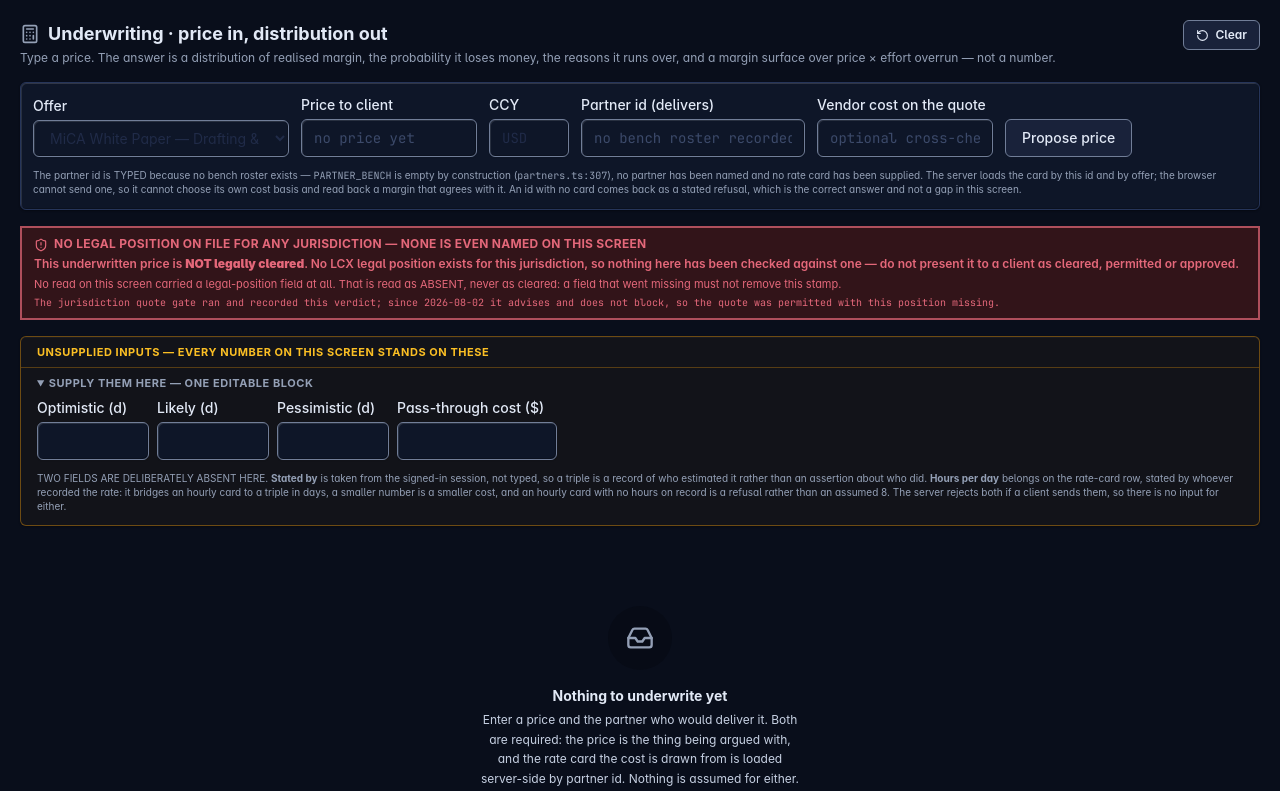
Scenario: the promised surface is what actually arrives › renders the figure, its readsAs and its environment label once a quote lands
The image size is (1280, 791).
Step 1. Type "25000" into the field with test id "price-input" → (389, 138), box top-left (301, 119), bottom-right (477, 157)
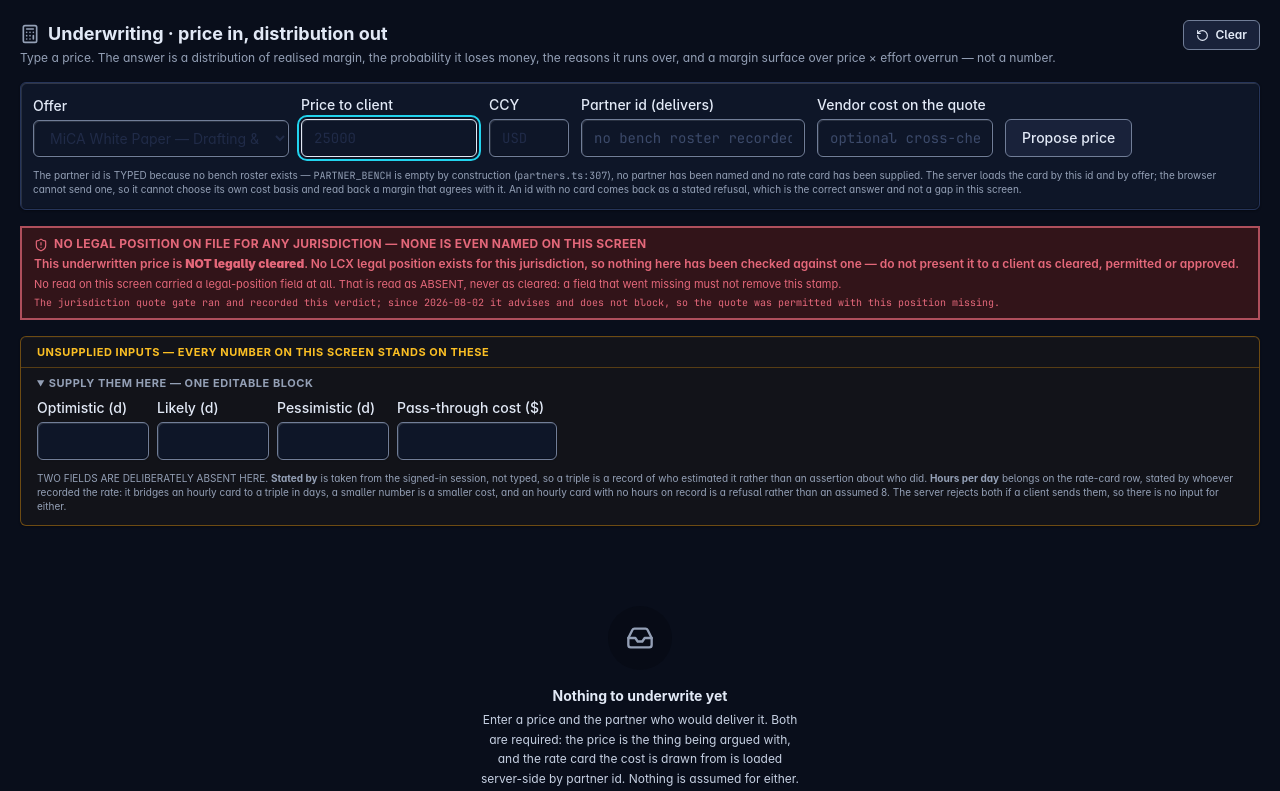
Step 2. Type "partner-1" into the field with test id "partner-input" → (693, 138), box top-left (581, 119), bottom-right (805, 157)
(page scrolled)
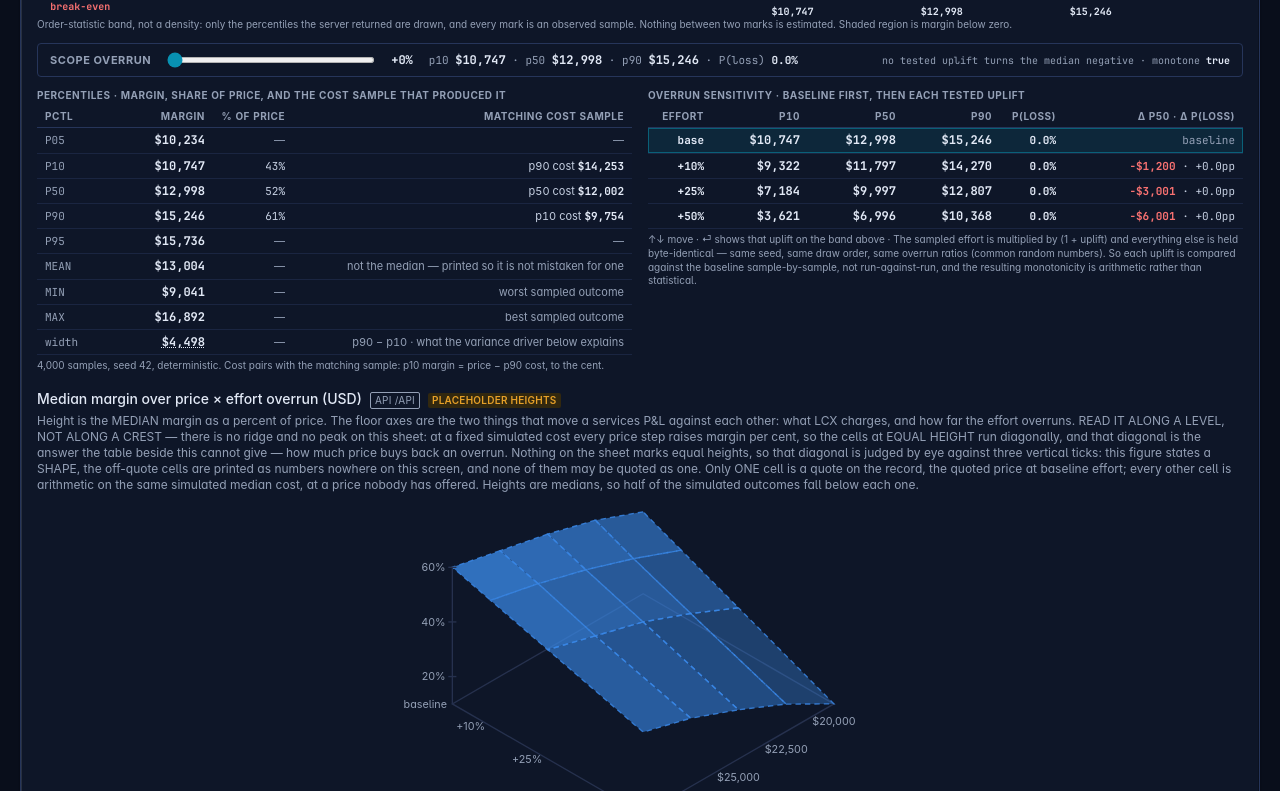
expect the text with test id "surface-reads-as" shows "how much price buys back an overrun": met, box top-left (37, 413), bottom-right (1231, 492)
expect the text with test id "surface-environment" shows "API": met, box top-left (375, 394), bottom-right (415, 406)
